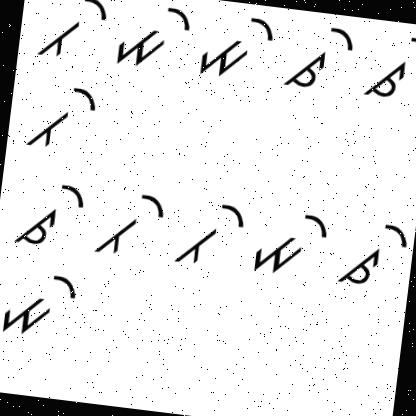bay: (90, 180, 172, 269), (170, 191, 248, 281), (19, 78, 100, 156), (31, 0, 112, 66)
cay: (6, 172, 88, 256), (334, 210, 411, 296), (284, 22, 356, 98), (360, 30, 416, 105)
may: (247, 197, 331, 288), (0, 258, 81, 343), (194, 8, 277, 89), (111, 0, 193, 80)
